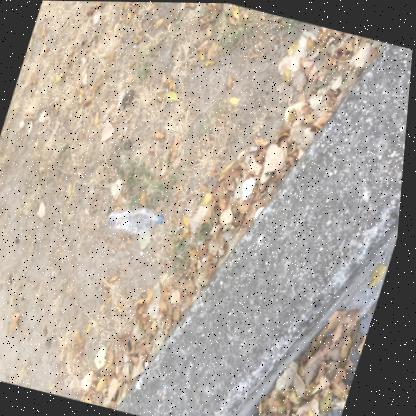Plastic: (110, 207, 167, 234)
Waste: (262, 13, 267, 19), (67, 368, 70, 375), (31, 46, 34, 48)
